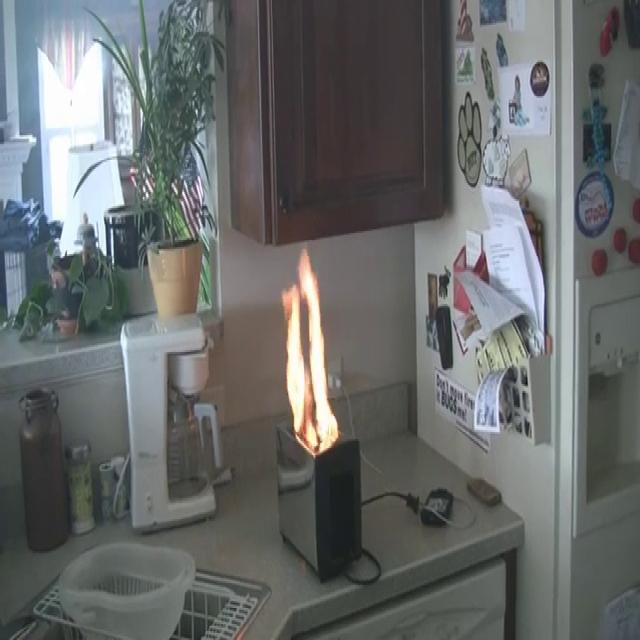fire: (268, 254, 347, 460)
